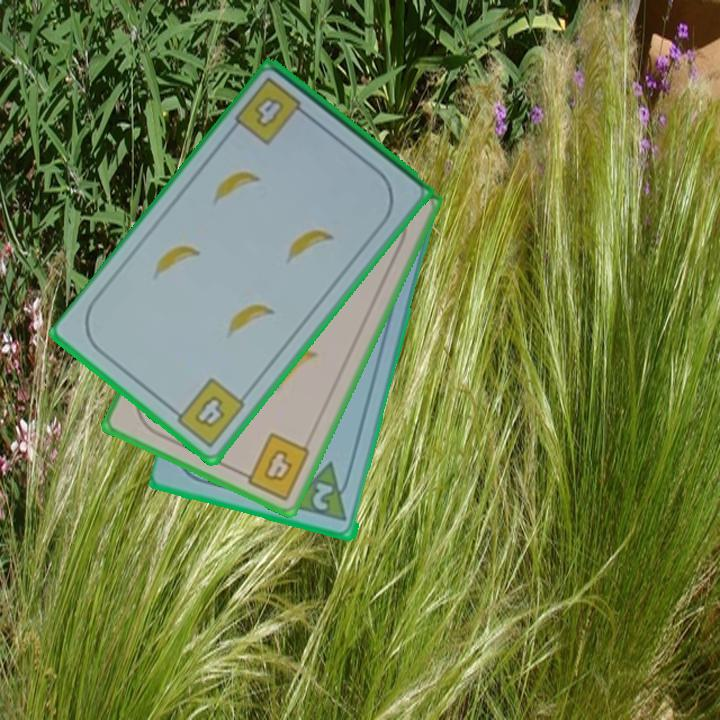2p: (288, 460, 356, 525)
4b: (167, 374, 248, 451), (231, 74, 314, 148), (234, 429, 313, 504)
